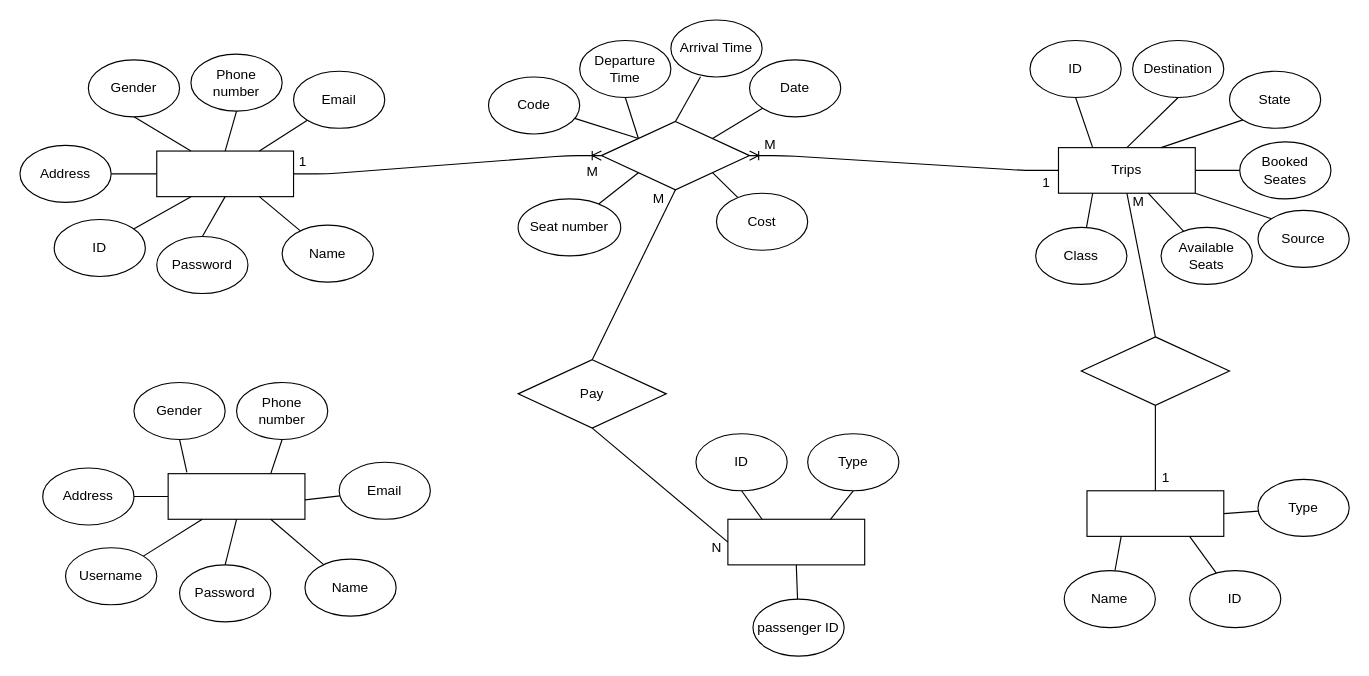
Some shapes in this 1369 by 676 pixel diagram are drawn without their labels. The shapes that lost their labels are listed below. From the top down, each one's centre as x and y in pixels, then its label:
At point (225, 173): "Passenger".
At point (675, 155): "Reserve".
At point (1154, 370): "Offer".
At point (236, 496): "Admin".
At point (1155, 513): "Train".
At point (796, 541): "Payment".
